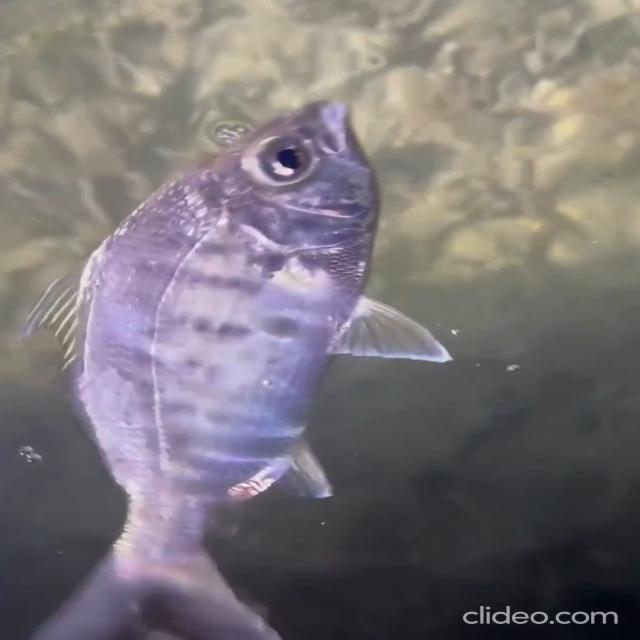fish: (1, 69, 462, 640)
